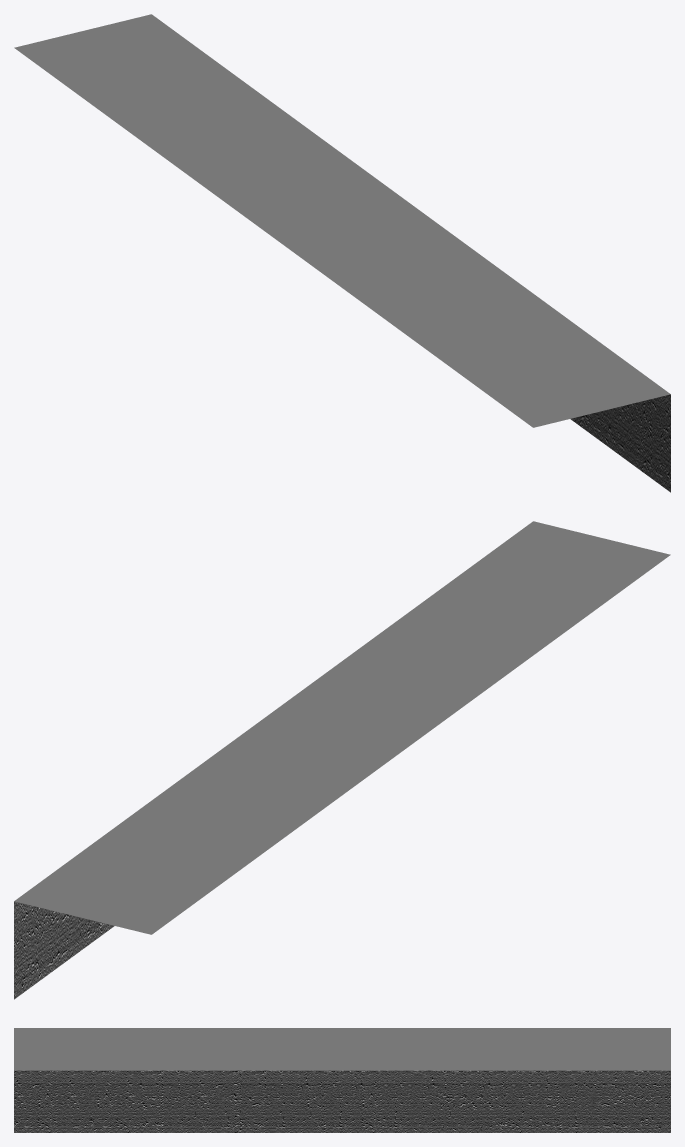
Rendered from Floor.fbx.
3 renders of one model, top to bottom at view 1: azimuth 30°, elevation 25°; view 2: azimuth 150°, elevation 25°; view 3: azimuth 270°, elevation 25°, orthographic. The views are drawn at different scales.
Visible parts, largest first — view 1: pCube1; view 2: pCube1; view 3: pCube1.
Part boxes in pixels (left/top/right/bottom): pCube1: left=14, top=14, right=670, bottom=492; pCube1: left=14, top=521, right=670, bottom=999; pCube1: left=14, top=1028, right=670, bottom=1132.
Size of the model in its own units: 4.77 by 3.26 by 31.18.
1 material, 1 textured.
